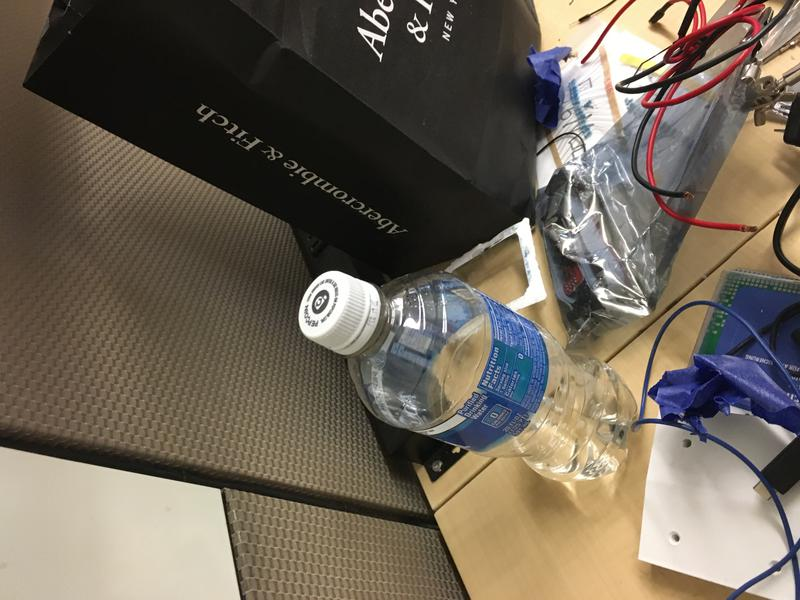bottle: (295, 265, 641, 486)
